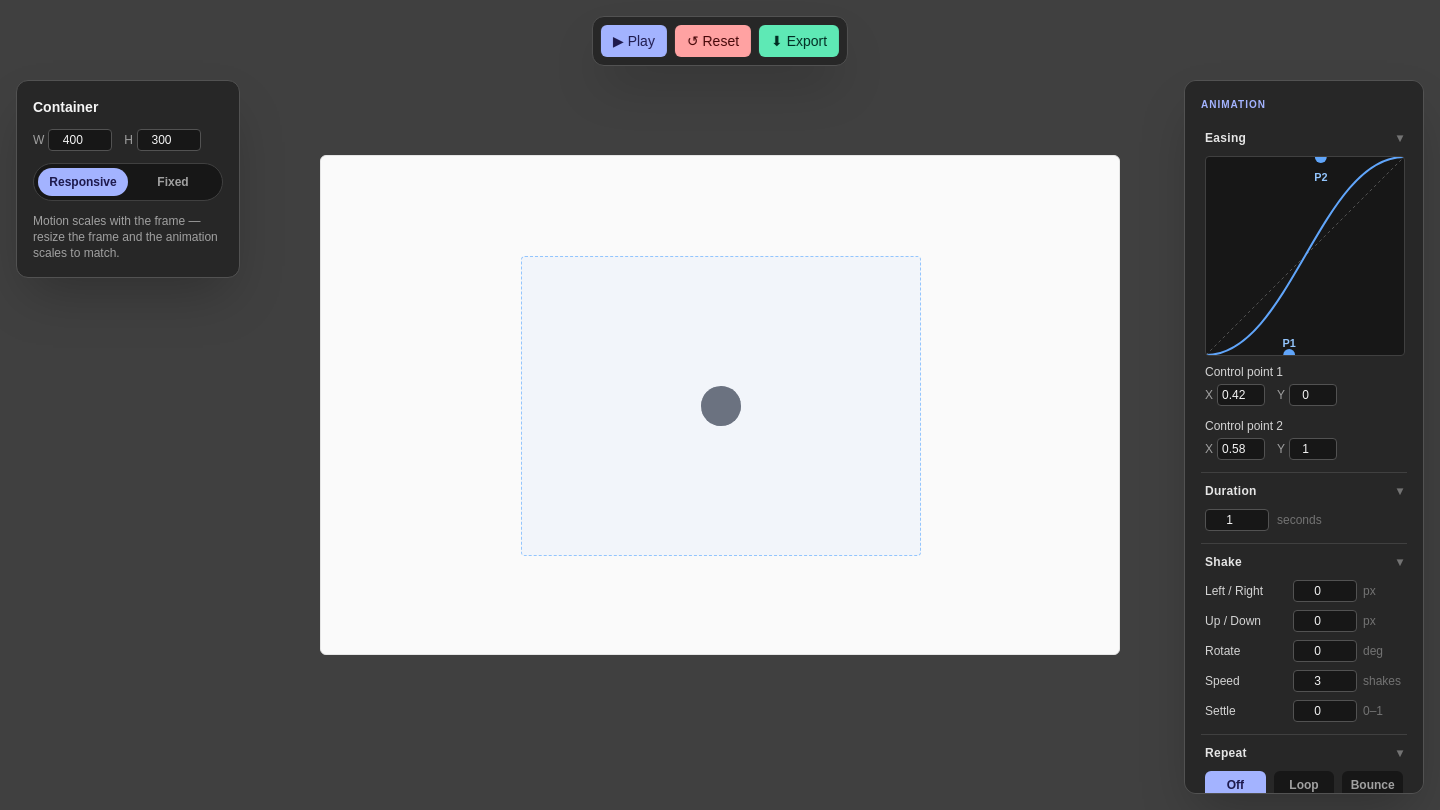
EditorLayout › opens the export modal when Export is clicked
Click the button "⬇ Export" at (799, 41), box [759,25,839,57]
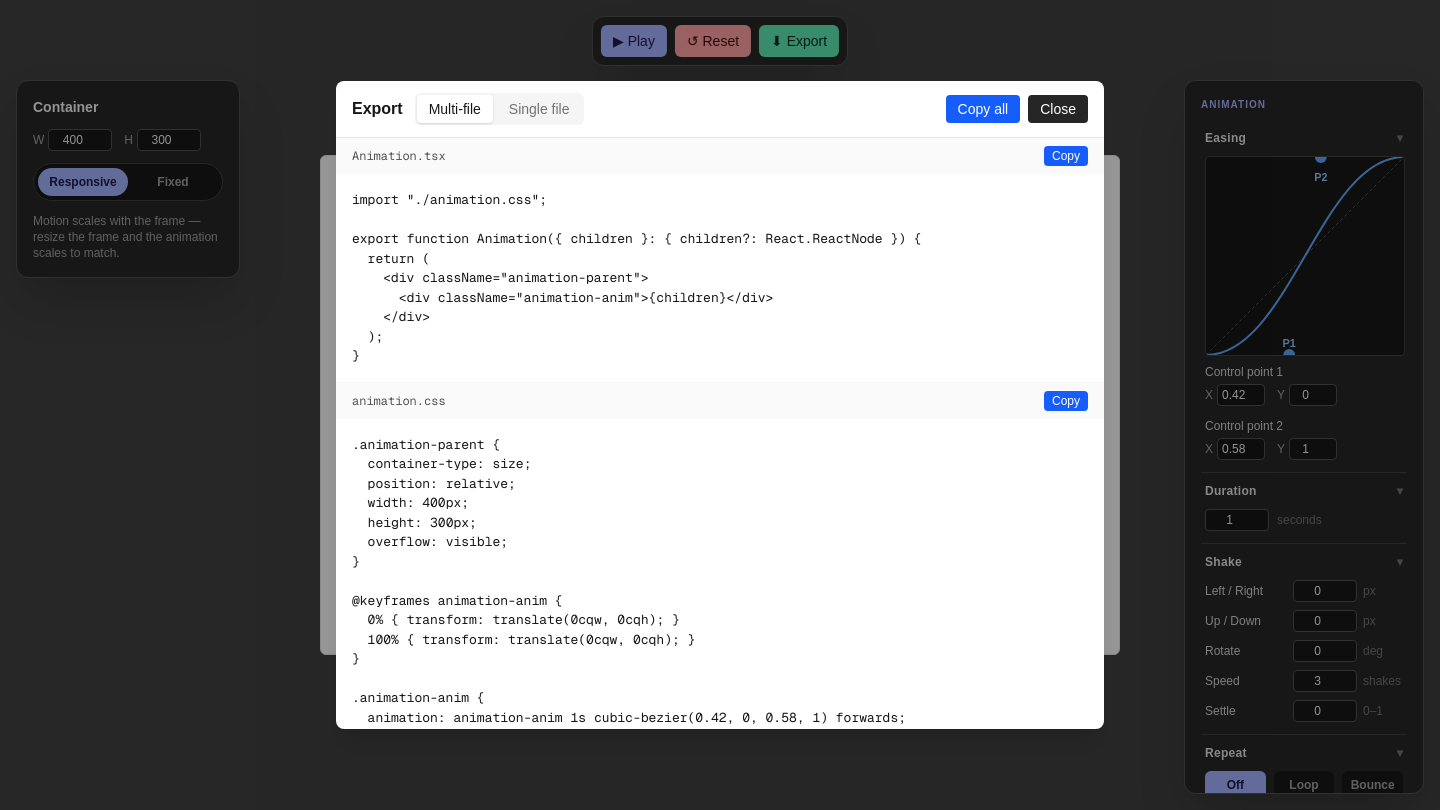
Result: the element with test id "export-modal" is shown at [336,81,1104,729]
